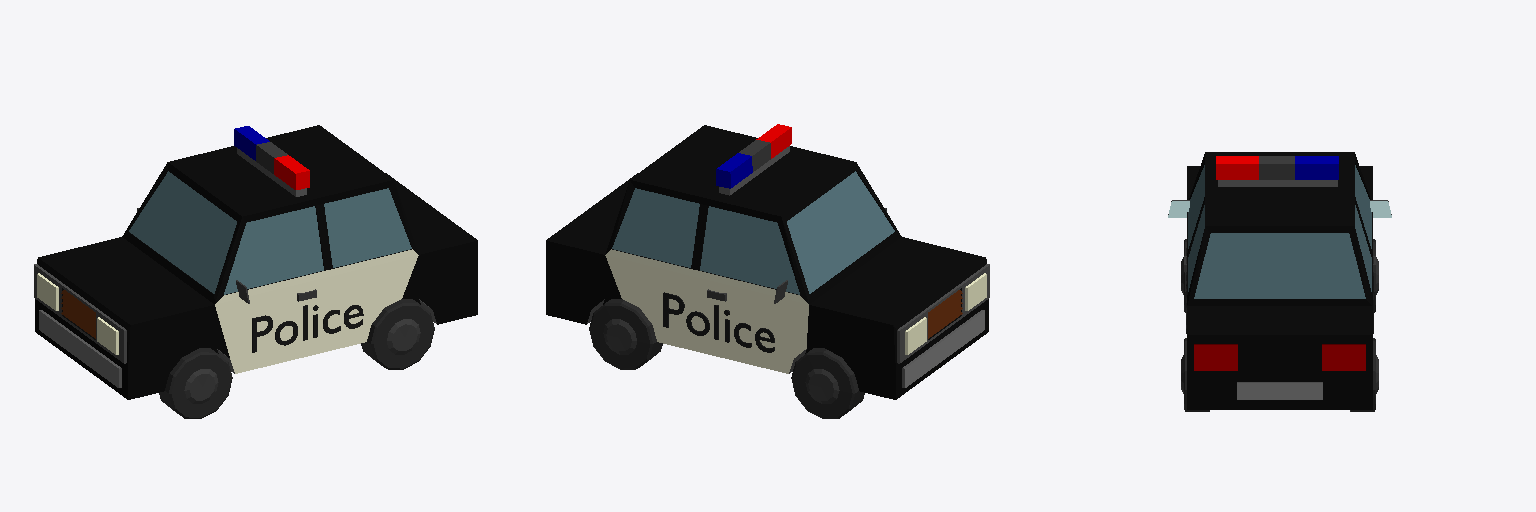
3 views of the same model, side by side, from view 1: azimuth 30°, elevation 25°; view 2: azimuth 150°, elevation 25°; view 3: azimuth 270°, elevation 25° (orthographic).
Parts seen in each view (by area): view 1: Police_Plane.008; view 2: Police_Plane.008; view 3: Police_Plane.008.
Boxes of the visible parts, x1=… form: Police_Plane.008: x1=34, y1=125, x2=477, y2=418; Police_Plane.008: x1=546, y1=124, x2=989, y2=418; Police_Plane.008: x1=1168, y1=152, x2=1391, y2=411.
Bounding box in the file's own units: 3.35 × 1.85 × 1.81.
1 materials, 1 textured.